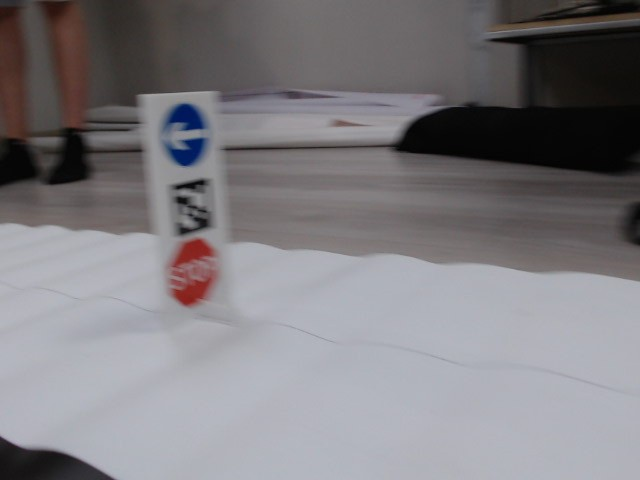Stop: (167, 239, 218, 306)
